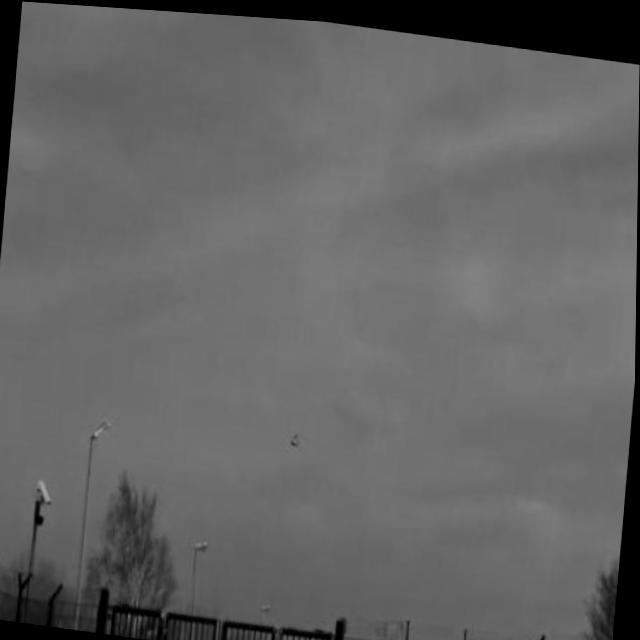helikopter: (290, 428, 302, 444)
